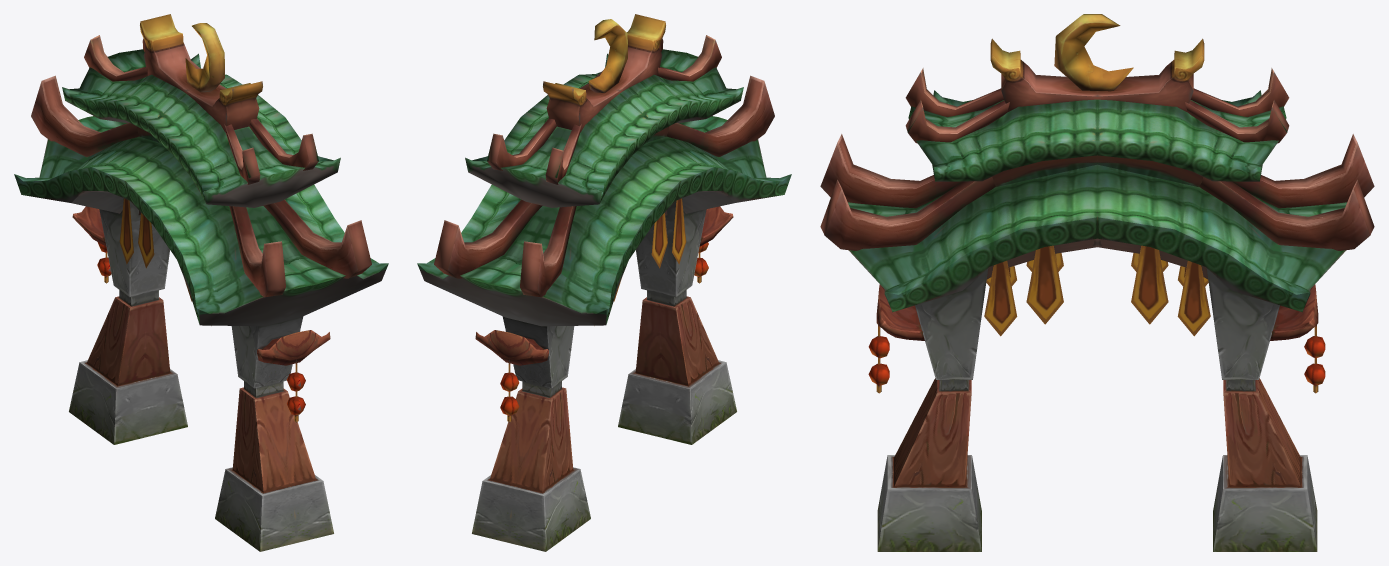
The model's file is paifang.FBX.
The picture shows the model from 3 angles, left to right: view 1: azimuth 30°, elevation 25°; view 2: azimuth 150°, elevation 25°; view 3: azimuth 270°, elevation 25°; orthographic projection. The views are drawn at different scales.
Parts seen in each view (by area): view 1: paifang; view 2: paifang; view 3: paifang.
Part boxes in pixels (bbox=[...]): paifang: bbox=[14, 14, 388, 551]; paifang: bbox=[417, 14, 791, 551]; paifang: bbox=[820, 14, 1374, 551].
Size of the model in its own units: 49 by 108 by 111.
